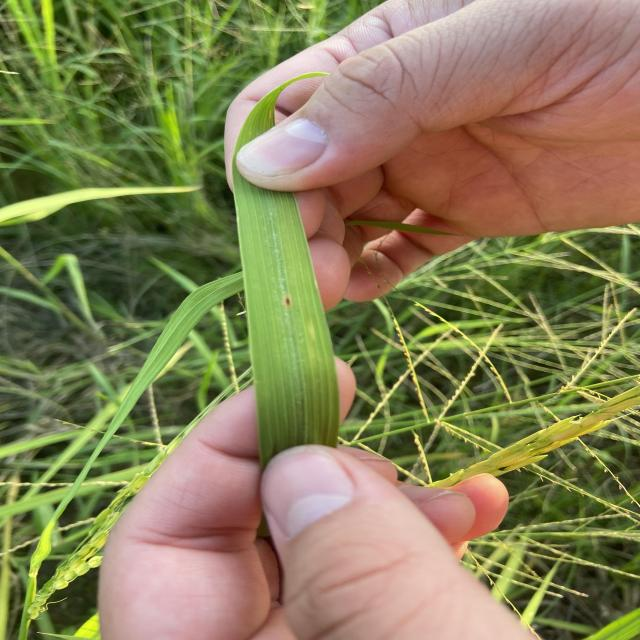Dom nau: (285, 297, 289, 304)
